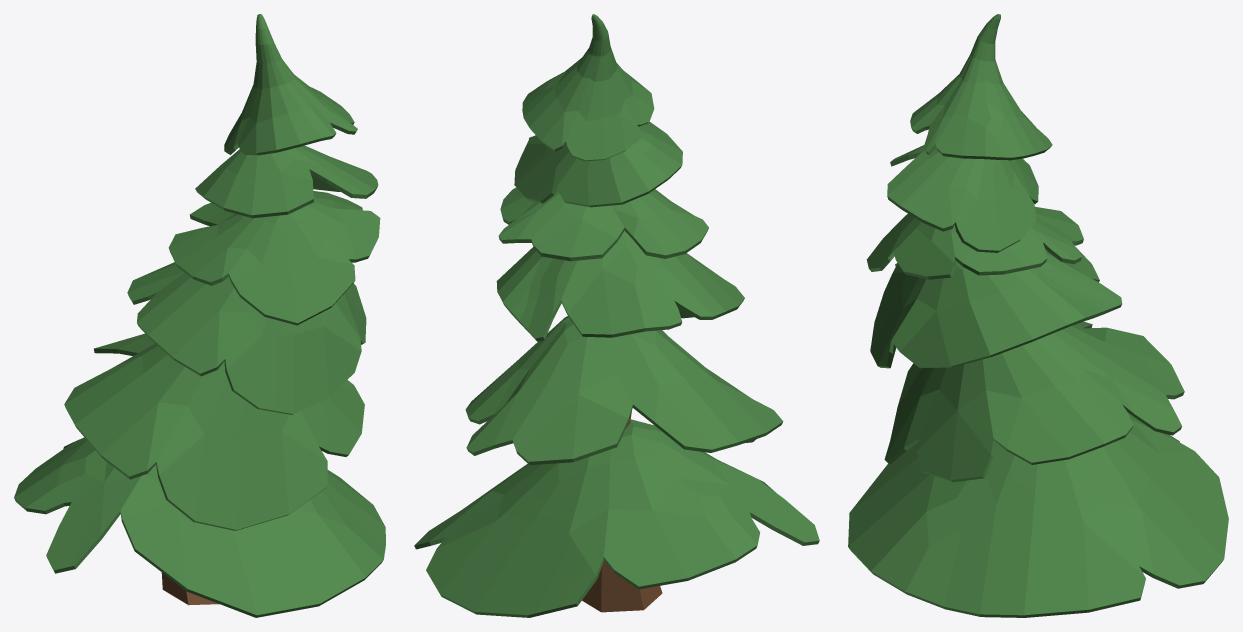
File: PineTree_3.glb
3 renders of one model, left to right at view 1: azimuth 30°, elevation 25°; view 2: azimuth 150°, elevation 25°; view 3: azimuth 270°, elevation 25°, orthographic. The views are drawn at different scales.
Visible parts, largest first — view 1: PineTree_3; view 2: PineTree_3; view 3: PineTree_3.
Part boxes in pixels (left/top/right/bottom): PineTree_3: left=14, top=14, right=385, bottom=617; PineTree_3: left=414, top=14, right=819, bottom=617; PineTree_3: left=848, top=14, right=1228, bottom=617.
Size of the model in its own units: 4.47 by 7.11 by 4.21.
